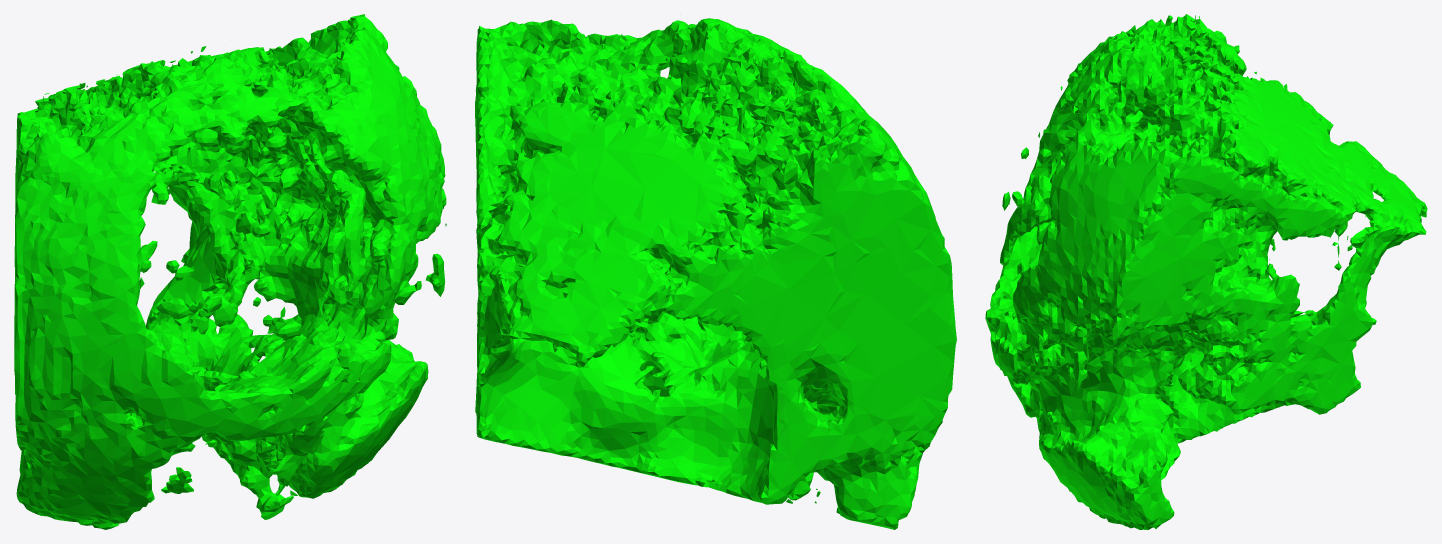
The model's file is B939XXXX-1_base_39.obj.
3 renders of one model, left to right at view 1: azimuth 30°, elevation 25°; view 2: azimuth 150°, elevation 25°; view 3: azimuth 270°, elevation 25°, orthographic. The views are drawn at different scales.
Visible parts, largest first — view 1: 39_base; view 2: 39_base; view 3: 39_base.
Part boxes in pixels (x1,y1,x2,y2): 39_base: [14, 14, 446, 529]; 39_base: [475, 18, 956, 529]; 39_base: [985, 14, 1427, 529].
Size of the model in its own units: 218 by 218 by 204.
